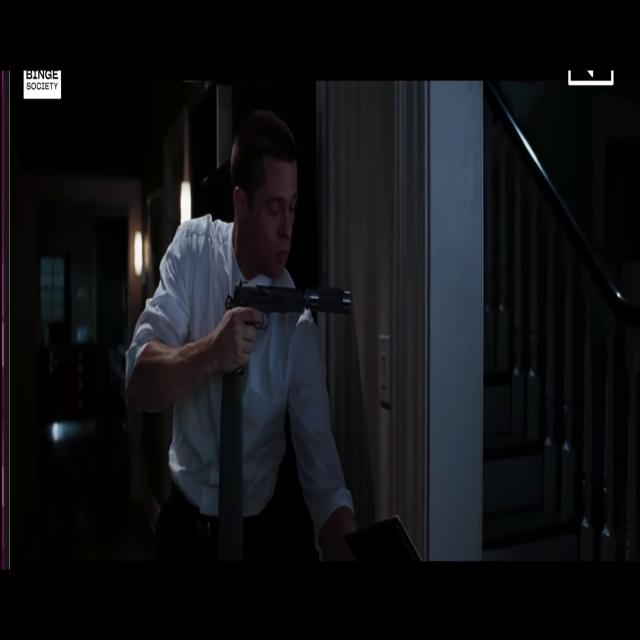weapons: (212, 259, 361, 391)
